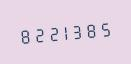eight: (17, 24, 30, 47), (87, 18, 100, 40)
five: (101, 16, 114, 39)
one: (59, 20, 72, 43)
three: (73, 19, 86, 42)
two: (45, 21, 58, 44), (31, 23, 44, 45)
